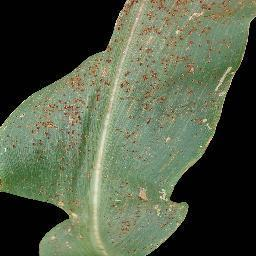Corn_Common_Rust: (96, 0, 256, 135), (0, 136, 213, 203), (34, 203, 192, 256), (0, 54, 96, 135)
